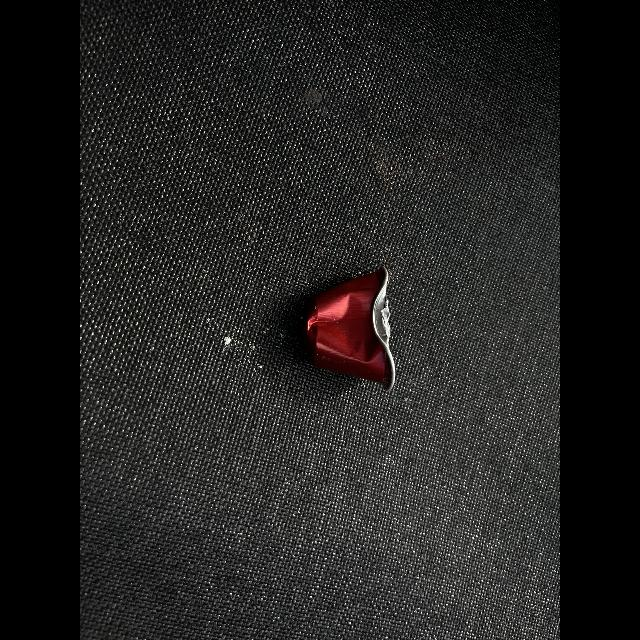damaged_capsule: (284, 250, 422, 402)
